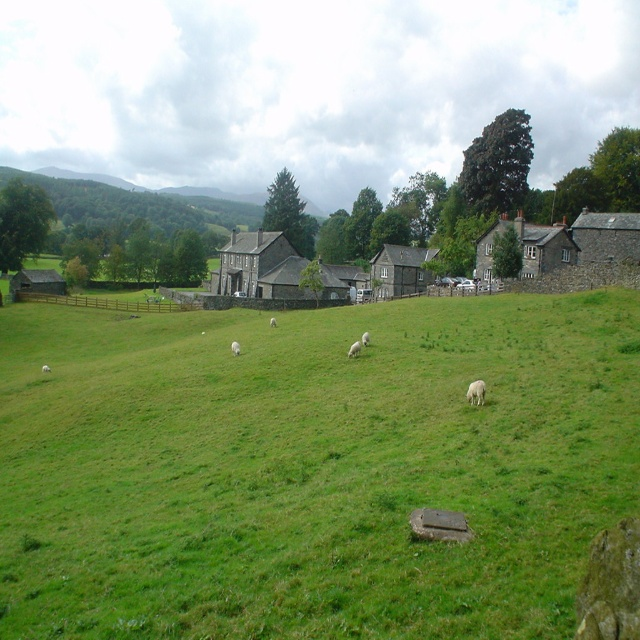Sheep: (467, 382, 486, 410), (348, 340, 362, 359), (232, 340, 240, 355), (362, 332, 371, 345), (269, 319, 278, 329), (44, 364, 50, 372)
